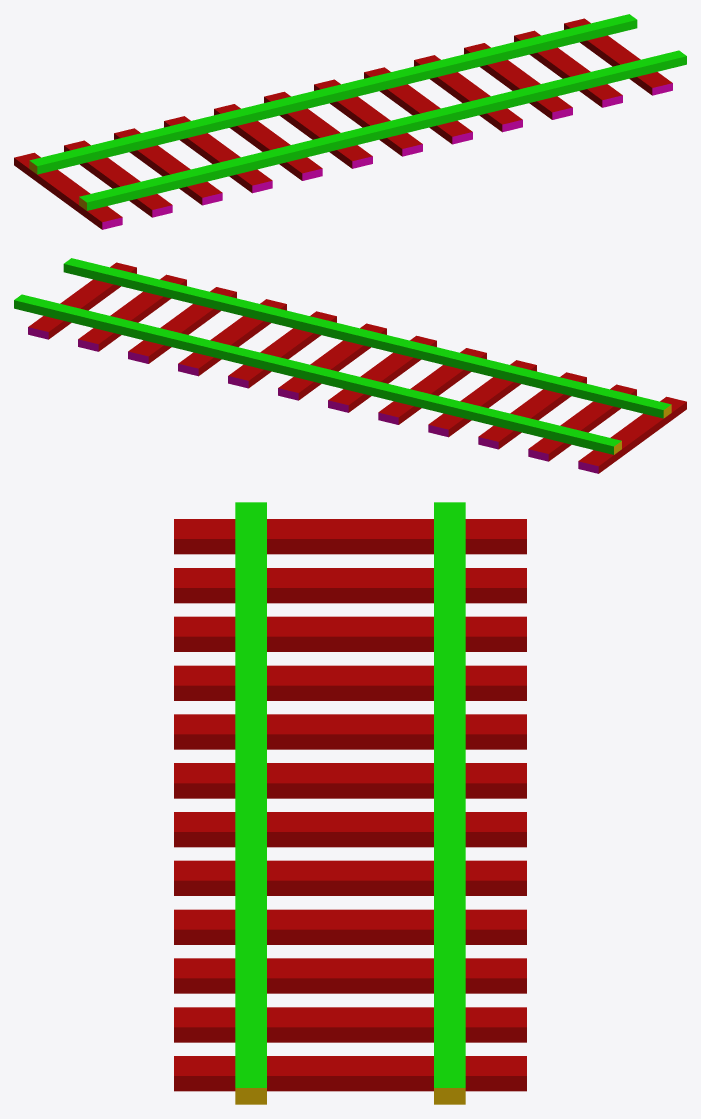
File: rail.001.fbx
3 renders of one model, top to bottom at view 1: azimuth 30°, elevation 25°; view 2: azimuth 150°, elevation 25°; view 3: azimuth 270°, elevation 25°, orthographic. The views are drawn at different scales.
Visible parts, largest first — view 1: rail.001; view 2: rail.001; view 3: rail.001.
Part boxes in pixels (box(x1,y1,x2,y2)): rail.001: box(14, 14, 686, 229); rail.001: box(14, 258, 686, 473); rail.001: box(174, 502, 526, 1104).
Size of the model in its own units: 5.88 by 0.1509 by 1.5.
